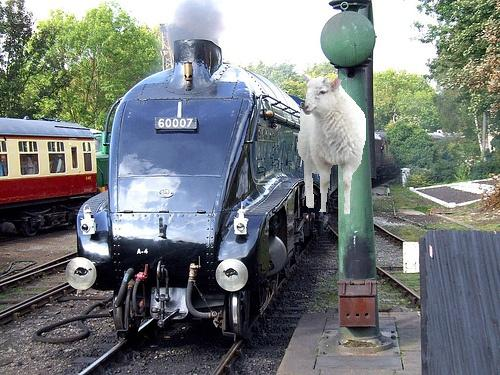tampered: (298, 74, 366, 214)
